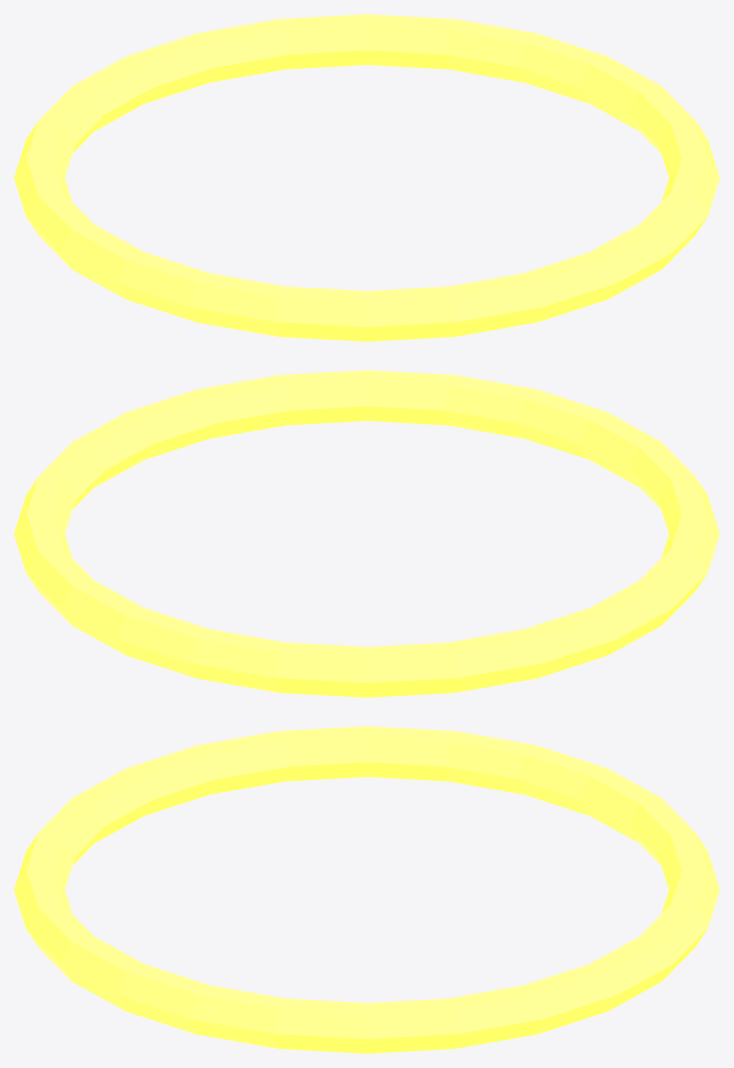
File: znacznik.glb
3 views of the same model, one above another, from view 1: azimuth 30°, elevation 25°; view 2: azimuth 150°, elevation 25°; view 3: azimuth 270°, elevation 25° (orthographic).
Parts seen in each view (by area): view 1: znacznik; view 2: znacznik; view 3: znacznik.
Boxes of the visible parts, x1,y1,x2,y2 form: znacznik: (14,14,719,341); znacznik: (14,370,719,697); znacznik: (14,726,719,1053).
Bounding box in the file's own units: 1.94 × 0.1212 × 1.94.
